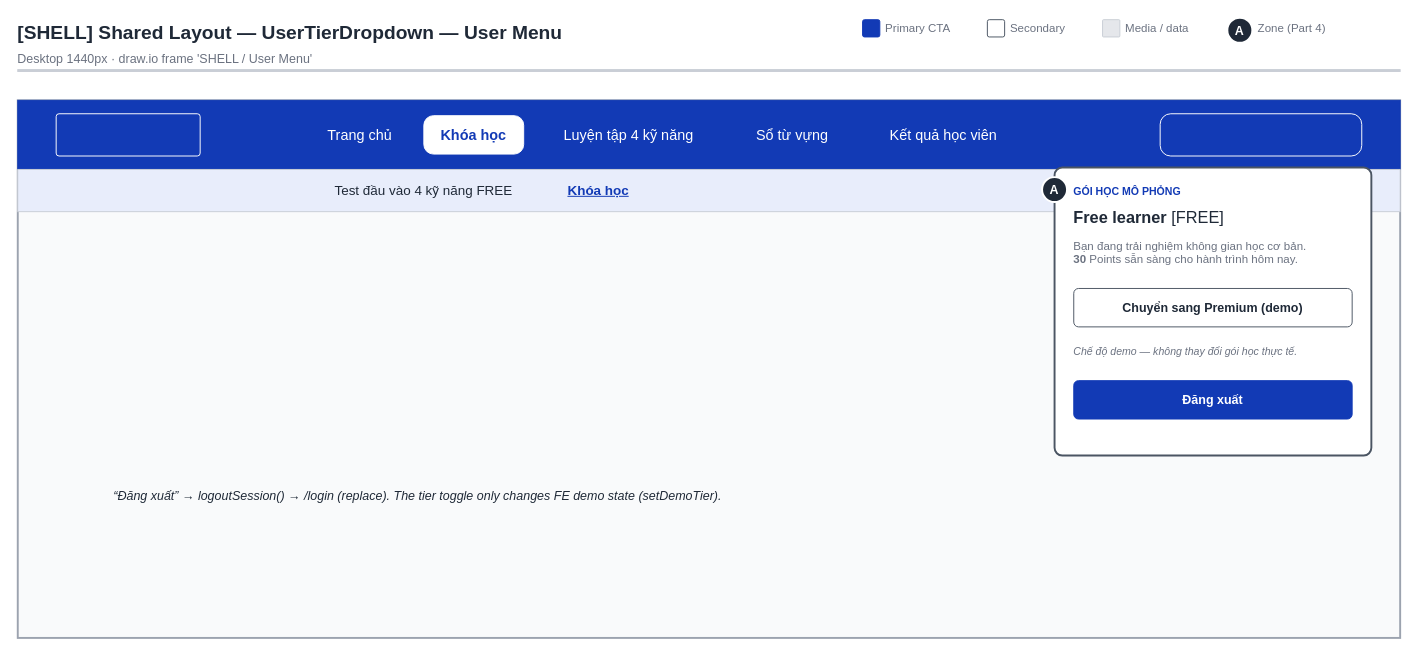
The diagram is 1418 pixels wide and 655 high, and some of its shapes have lost their labels. Here are the shapes that lost their labels. From the top down, the box of each, then its label:
(55, 113, 200, 156): IELTS Space logo
(1159, 113, 1362, 156): ◯ Học viên · 30 Points ▾
